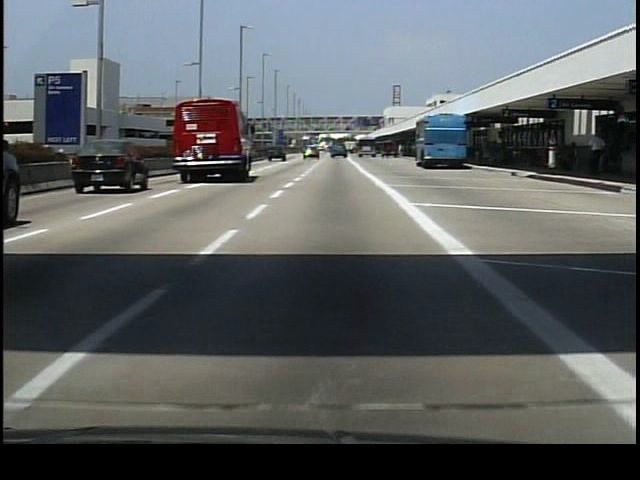person: (586, 131, 605, 177)
